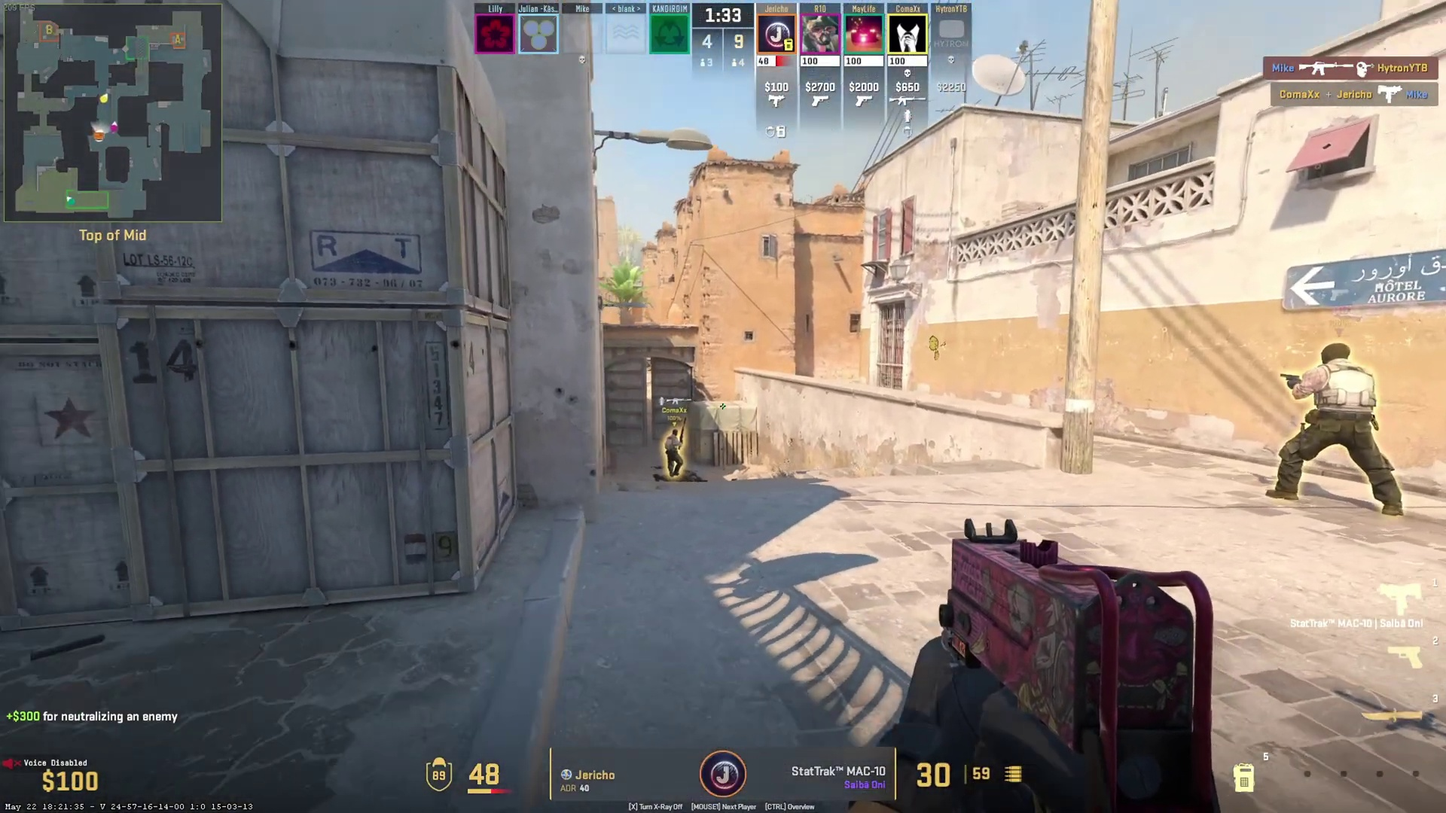Terrorist: (1277, 344, 1402, 516), (666, 429, 683, 477)
